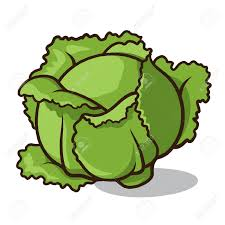cabbage: (1, 17, 224, 201)
